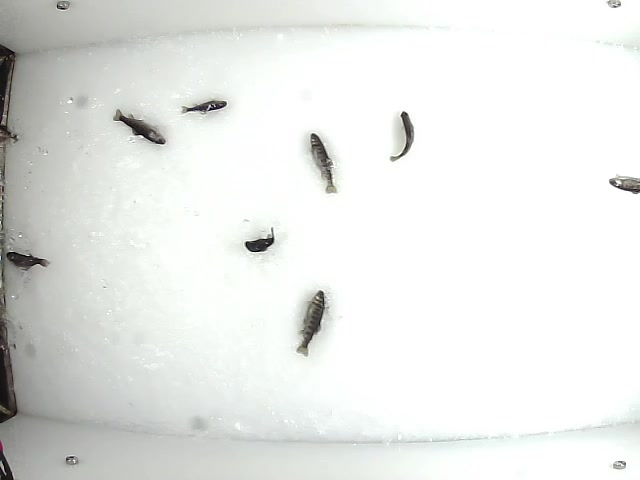fish: (293, 286, 325, 357), (112, 108, 167, 147), (308, 129, 339, 195), (388, 110, 415, 167), (2, 249, 53, 272), (176, 100, 230, 118), (244, 227, 278, 255)
